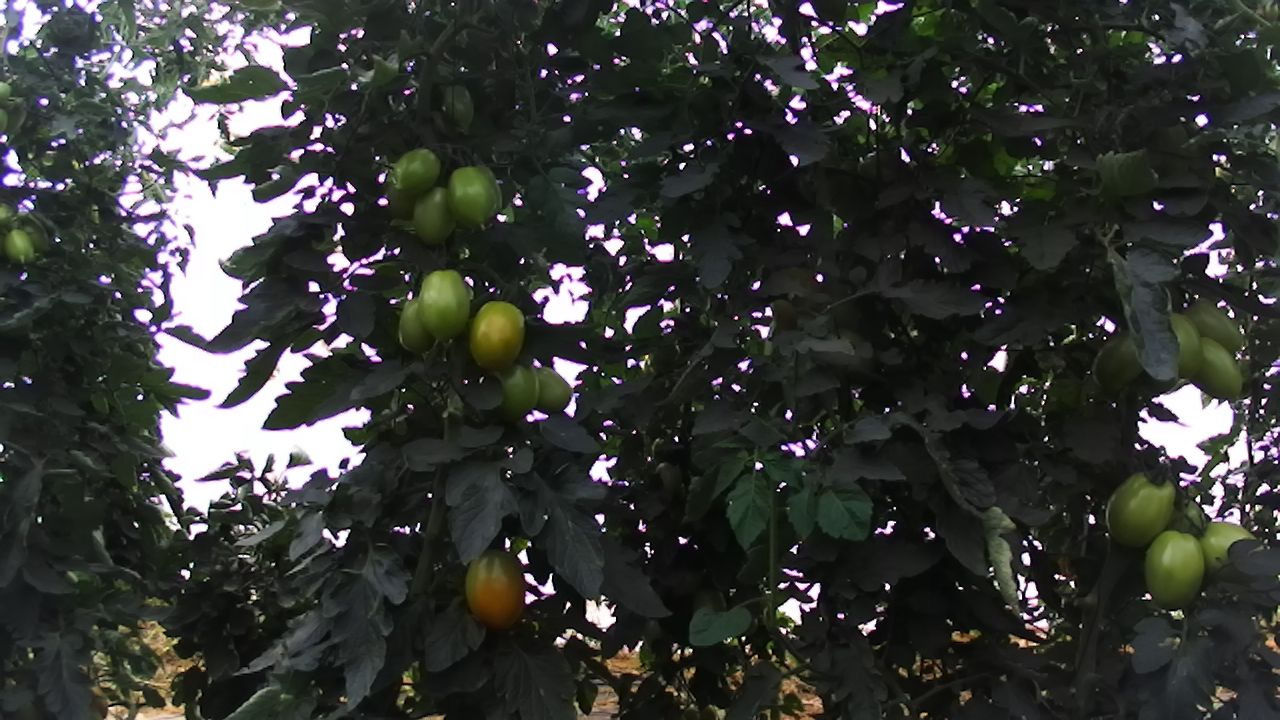tomato: (1100, 467, 1179, 549), (460, 541, 528, 635), (1141, 527, 1206, 612), (414, 264, 471, 347), (442, 158, 505, 233), (466, 296, 527, 372), (1182, 294, 1248, 363), (1188, 333, 1244, 402), (1163, 307, 1209, 384), (1089, 332, 1145, 393), (410, 183, 459, 247), (390, 146, 443, 196), (394, 295, 438, 354), (533, 364, 573, 416), (2, 222, 35, 269)
